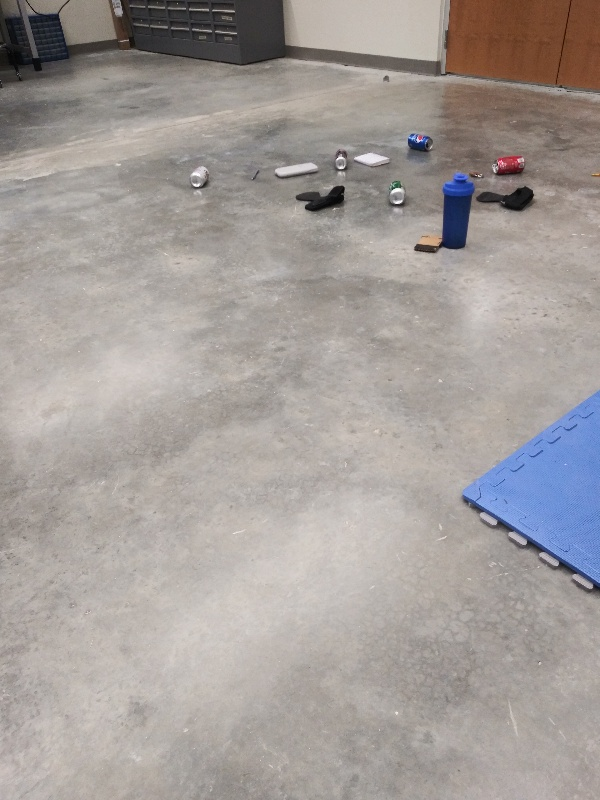can: (490, 154, 528, 178), (407, 131, 434, 154), (386, 179, 408, 207), (188, 164, 210, 191), (331, 147, 349, 174)
